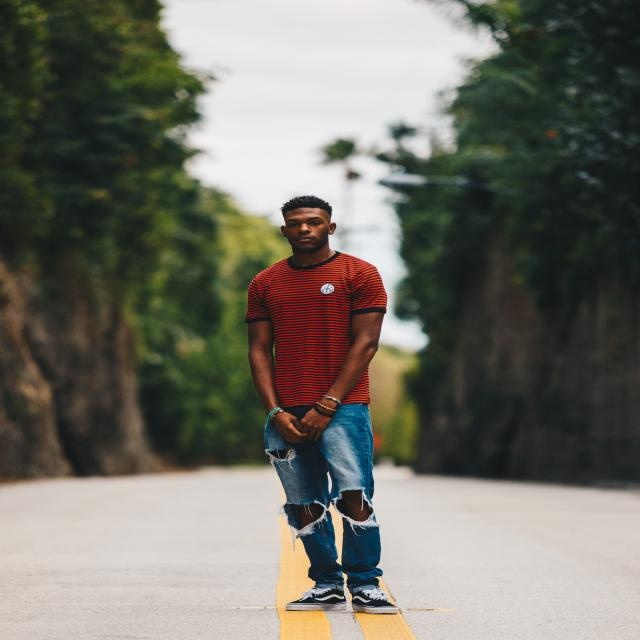ripped_pants: (269, 408, 387, 590)
